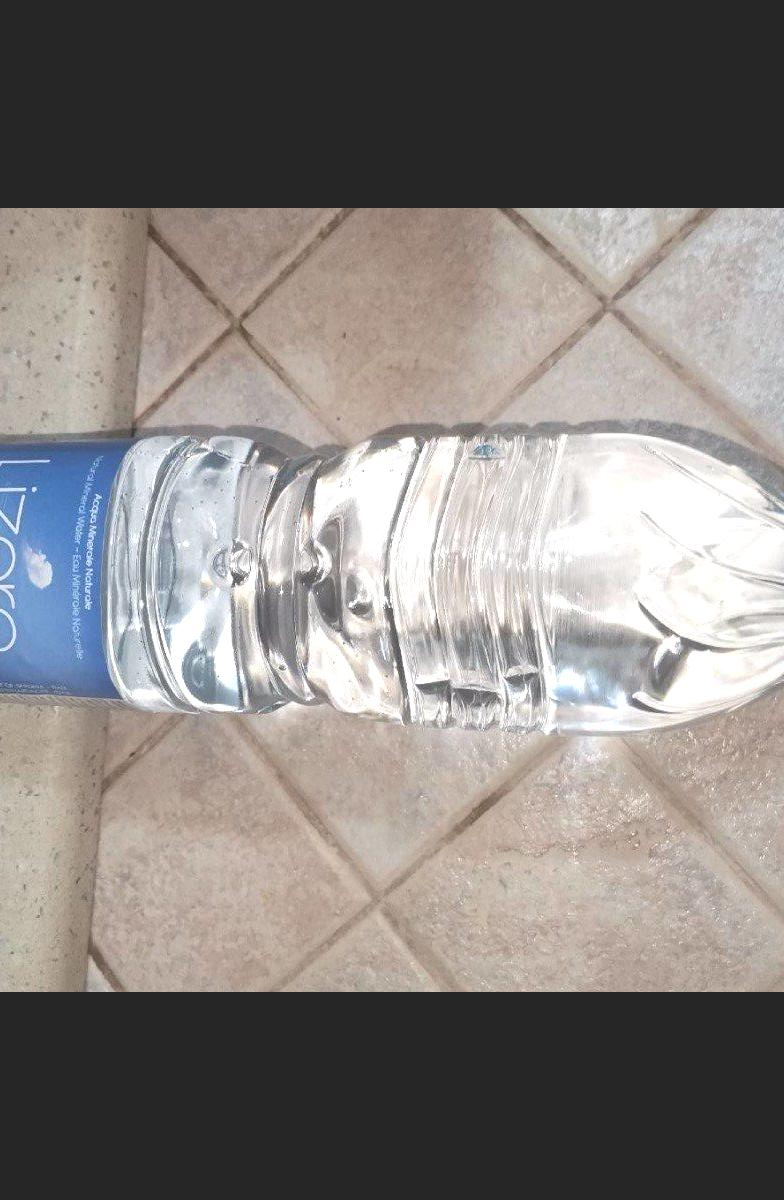bottle: (0, 386, 784, 813)
